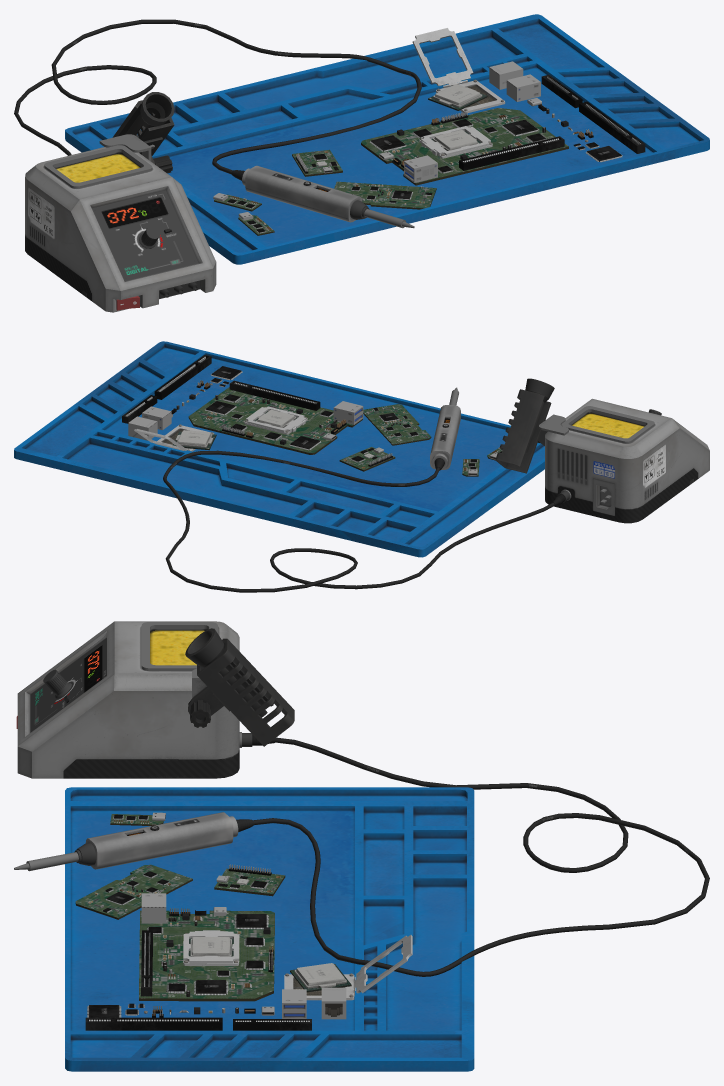
Rendered from Soldering_Kit.fbx.
3 views of the same model, one above another, from view 1: azimuth 30°, elevation 25°; view 2: azimuth 150°, elevation 25°; view 3: azimuth 270°, elevation 25° (orthographic). The views are drawn at different scales.
Parts seen in each view (by area): view 1: Solder_Mat, Solder_Kit, PCB_Board_1, Solder_Cable, PCB_Board_LooseParts, PCB_Board_CPU, PCB_Board_3, PCB_Board_6, CPU_Cover, CPU, PCB_Board_5; view 2: Solder_Mat, Solder_Kit, PCB_Board_1, Solder_Cable, PCB_Board_LooseParts, PCB_Board_3, PCB_Board_CPU, PCB_Board_6, CPU_Cover, CPU; view 3: Solder_Mat, Solder_Kit, PCB_Board_1, Solder_Cable, PCB_Board_LooseParts, PCB_Board_3, PCB_Board_CPU, PCB_Board_6, CPU_Cover, CPU.
Boxes of the visible parts, left/top/right/bottom form: Solder_Mat: left=65, top=14, right=709, bottom=264; Solder_Kit: left=25, top=92, right=414, bottom=312; PCB_Board_1: left=361, top=108, right=568, bottom=185; Solder_Cable: left=14, top=19, right=421, bottom=174; PCB_Board_LooseParts: left=489, top=61, right=645, bottom=162; PCB_Board_CPU: left=412, top=28, right=505, bottom=113; PCB_Board_3: left=334, top=181, right=436, bottom=209; PCB_Board_6: left=292, top=149, right=342, bottom=176; CPU_Cover: left=421, top=126, right=490, bottom=155; CPU: left=431, top=130, right=480, bottom=150; PCB_Board_5: left=213, top=193, right=261, bottom=211; Solder_Mat: left=14, top=341, right=544, bottom=557; Solder_Kit: left=430, top=378, right=709, bottom=523; PCB_Board_1: left=188, top=380, right=363, bottom=454; Solder_Cable: left=163, top=450, right=554, bottom=592; PCB_Board_LooseParts: left=122, top=354, right=242, bottom=440; PCB_Board_3: left=363, top=404, right=431, bottom=445; PCB_Board_CPU: left=134, top=424, right=216, bottom=451; PCB_Board_6: left=339, top=447, right=395, bottom=471; CPU_Cover: left=246, top=406, right=306, bottom=431; CPU: left=254, top=409, right=296, bottom=427; Solder_Mat: left=65, top=787, right=474, bottom=1071; Solder_Kit: left=14, top=621, right=294, bottom=871; PCB_Board_1: left=139, top=893, right=274, bottom=1001; Solder_Cable: left=253, top=737, right=709, bottom=976; PCB_Board_LooseParts: left=85, top=987, right=346, bottom=1030; PCB_Board_3: left=75, top=864, right=192, bottom=919; PCB_Board_CPU: left=284, top=935, right=412, bottom=1000; PCB_Board_6: left=214, top=864, right=285, bottom=896; CPU_Cover: left=183, top=930, right=239, bottom=963; CPU: left=188, top=937, right=233, bottom=956.
Bounding box in the file's own units: 67.22 × 13.66 × 55.4.
